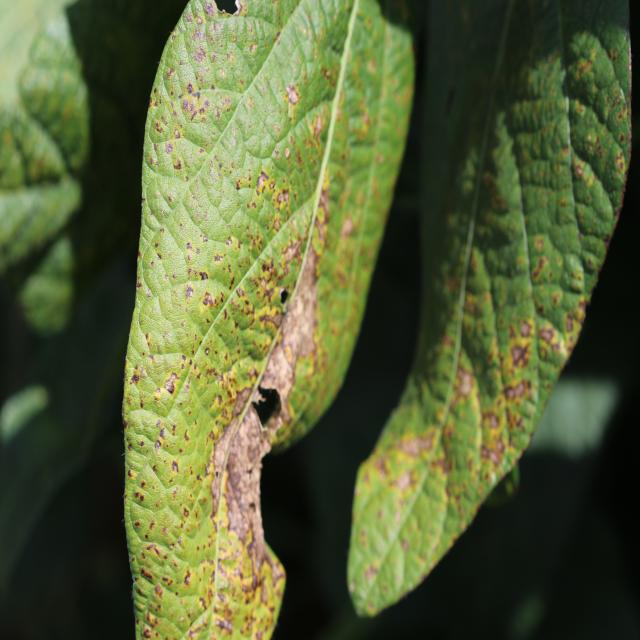Bacterial_Blight: (356, 416, 443, 571), (281, 248, 319, 370), (148, 412, 192, 482), (274, 214, 312, 277), (224, 473, 252, 541), (387, 429, 435, 464), (228, 380, 258, 423), (210, 446, 228, 516), (186, 177, 214, 220), (204, 16, 231, 54), (455, 367, 475, 397), (623, 38, 633, 96), (504, 380, 527, 402), (510, 342, 530, 367), (483, 447, 502, 468), (341, 216, 355, 236), (286, 85, 299, 105), (314, 113, 324, 139), (193, 46, 207, 64), (486, 411, 500, 429), (260, 580, 270, 605), (164, 375, 177, 394), (256, 171, 268, 191), (202, 292, 216, 307), (149, 544, 164, 558), (520, 321, 532, 337), (277, 190, 289, 206), (234, 0, 245, 13)
Soybean: (121, 0, 416, 640)
